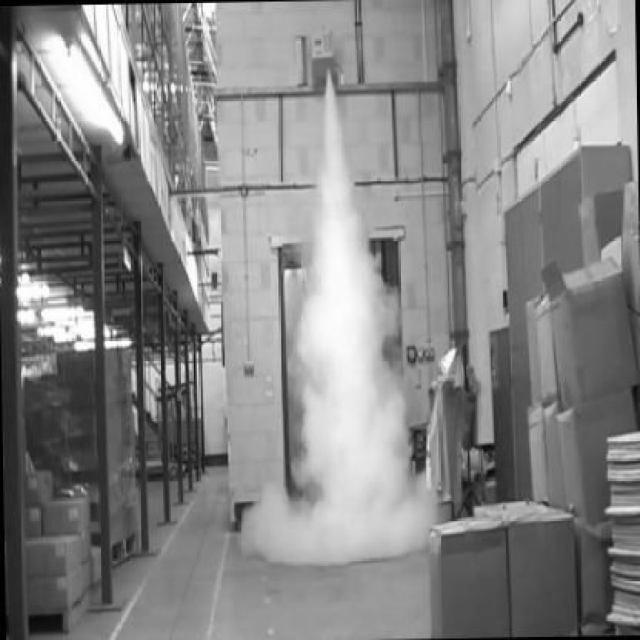fire: (238, 108, 432, 570)
